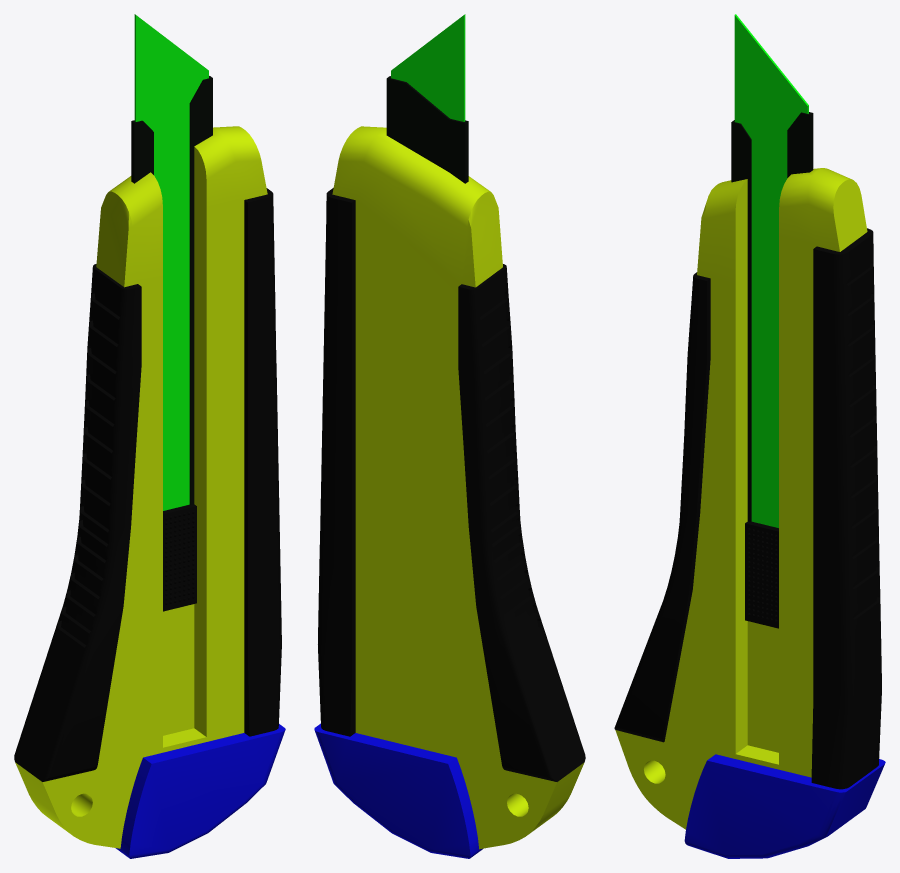
The model's file is Cutter_HP.fbx.
3 renders of one model, left to right at view 1: azimuth 30°, elevation 25°; view 2: azimuth 150°, elevation 25°; view 3: azimuth 330°, elevation 25°, orthographic.
Parts seen in each view (by area): view 1: Cutter_HP; view 2: Cutter_HP; view 3: Cutter_HP.
Boxes of the visible parts, left/top/right/bottom form: Cutter_HP: left=14, top=14, right=285, bottom=858; Cutter_HP: left=314, top=14, right=585, bottom=858; Cutter_HP: left=614, top=14, right=885, bottom=858.
Bounding box in the file's own units: 3.88 × 12.8 × 1.26.
